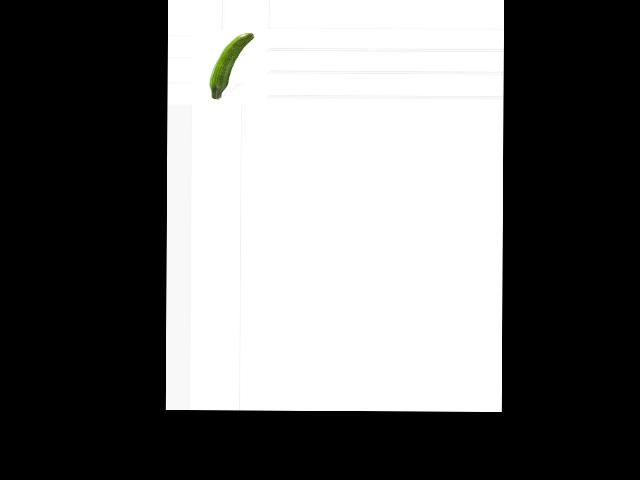cucumber: (209, 33, 254, 100)
